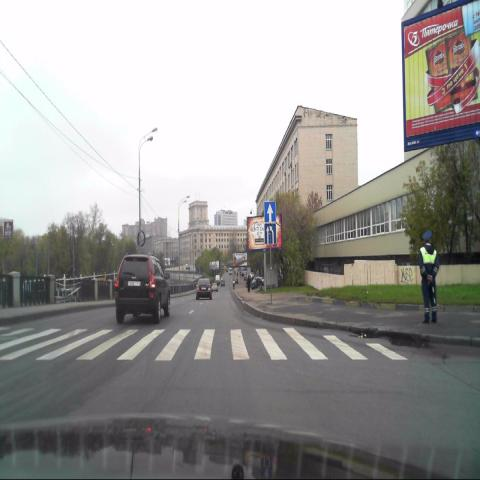5_15_5: (265, 223, 276, 244)
